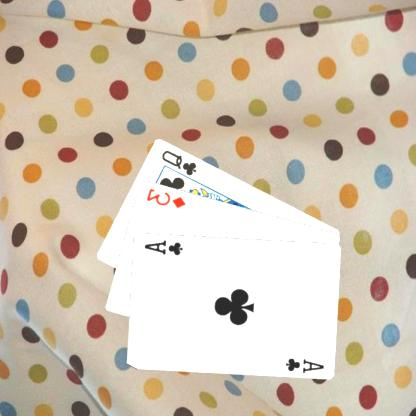3D: (145, 185, 189, 209)
AC: (143, 236, 185, 256), (284, 355, 327, 374)
QC: (160, 147, 200, 177)
